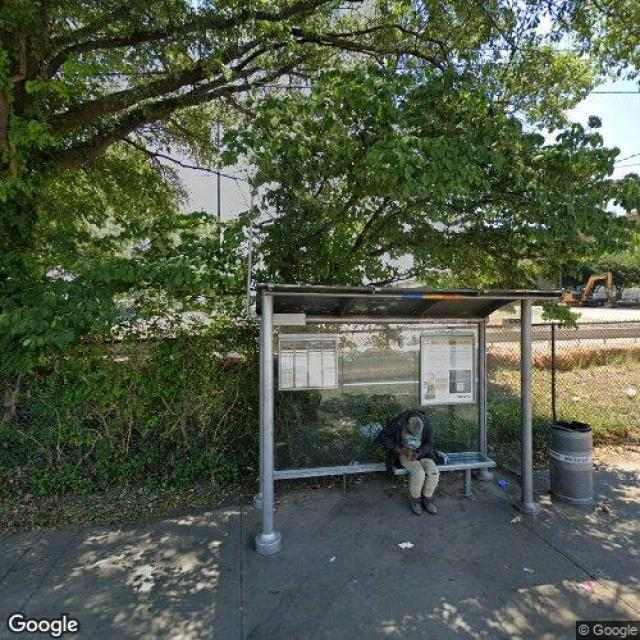seating: (388, 450, 497, 504)
shelter: (250, 284, 566, 550)
trash_can: (547, 421, 595, 507)
